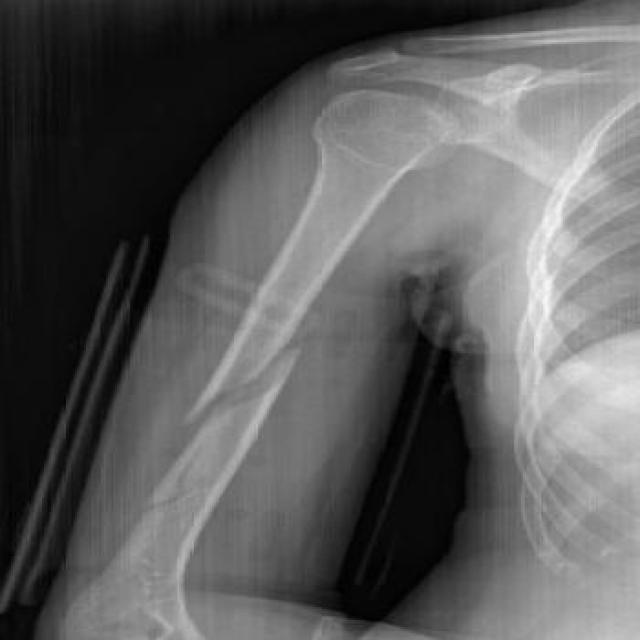Fracture: (174, 329, 324, 424), (126, 450, 232, 514)
